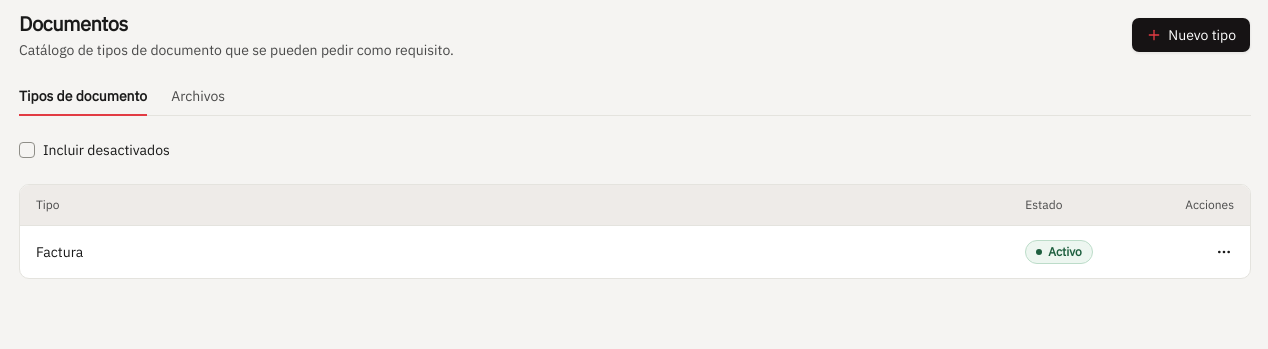
Test: TiposDocumentoPage: filtro "Incluir desactivados" › marcarlo agrega ?desactivados=1 como entrada nueva del historial y muestra los desactivados
Expected: the table named "Tipos de documento" is shown, [20,185,1250,278]
Click the checkbox named "Incluir desactivados" at (27, 150), box [19,142,35,158]
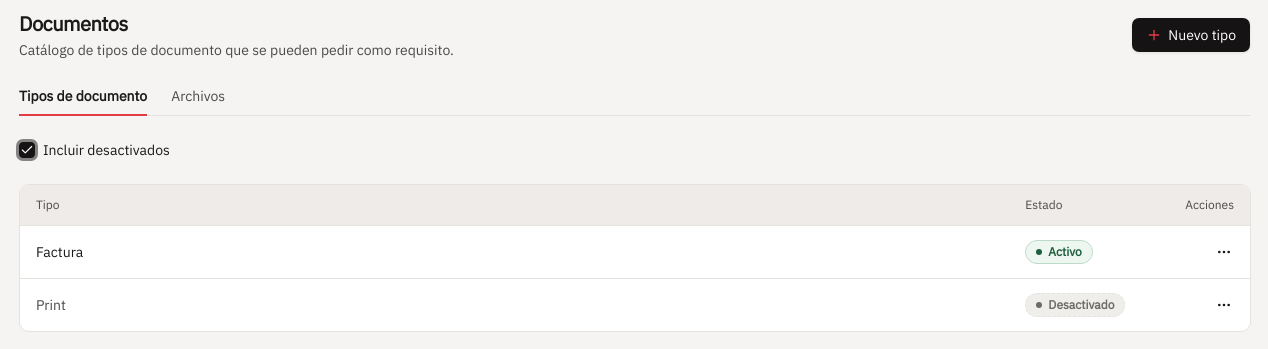
Now the checkbox named "Incluir desactivados" is checked, box [19,142,35,158]
Now the text "Print" is shown, box [36,296,66,314]
